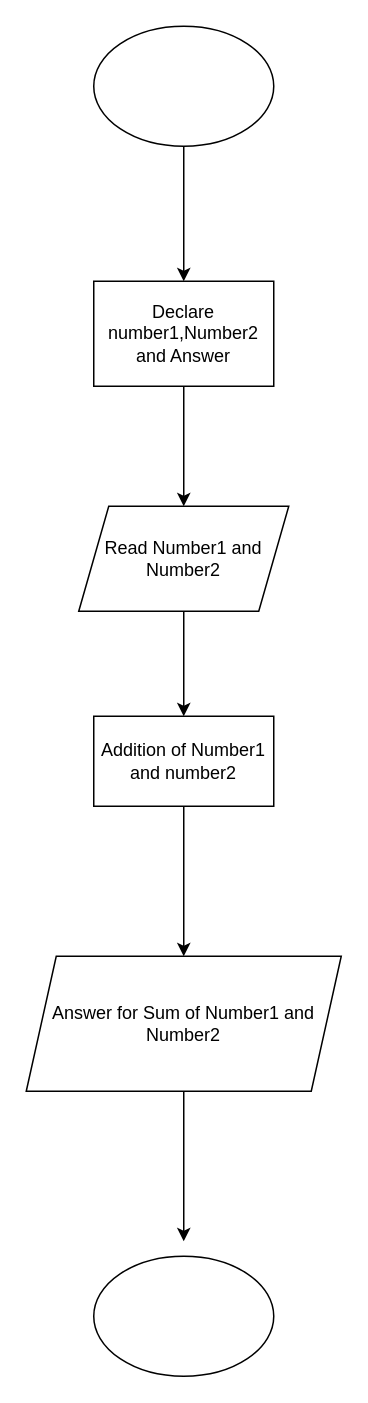
Image size: 368x1403. Some labels were removed from this diagram. The shapes that lost their labels are listed below. From the top down, each one's centre as x and y in pixels, then its label:
At pixel 183 85: "START".
At pixel 183 1315: "STOP".
